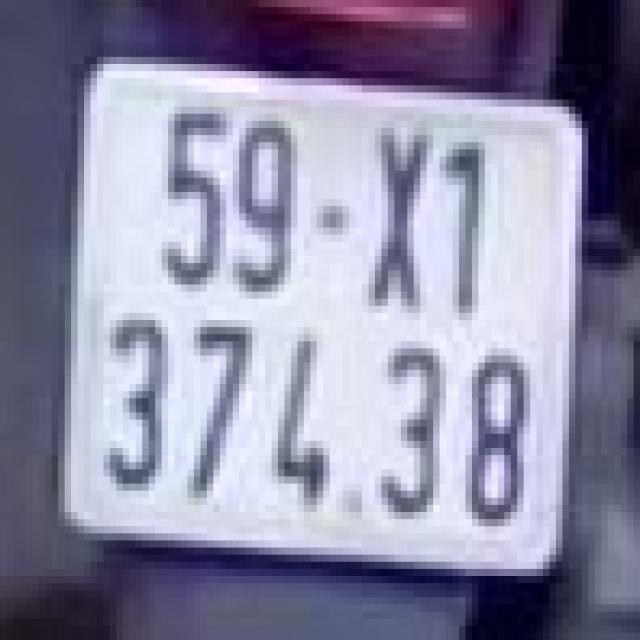1: (443, 124, 501, 323)
3: (88, 295, 172, 494), (375, 342, 446, 526)
4: (268, 316, 339, 508)
5: (152, 103, 229, 288)
7: (188, 313, 258, 512)
8: (462, 348, 540, 534)
9: (236, 110, 301, 302)
X: (375, 118, 433, 310)
